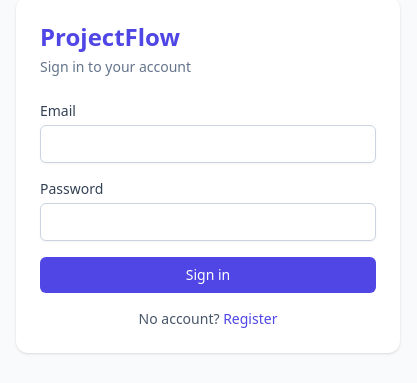
Scenario: LoginPage › rejects a malformed email
Type "not-an-email" into the field labelled "Email" at (208, 144), box [40,125,376,163]
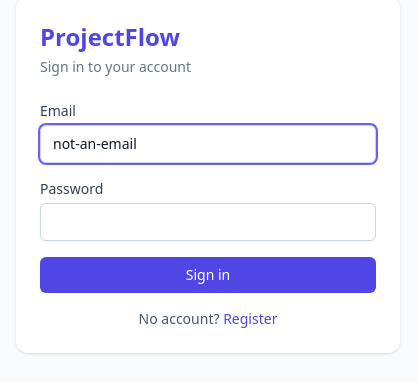
Type "secret123" into the password field labelled "Password" at (208, 222), box [40,203,376,241]
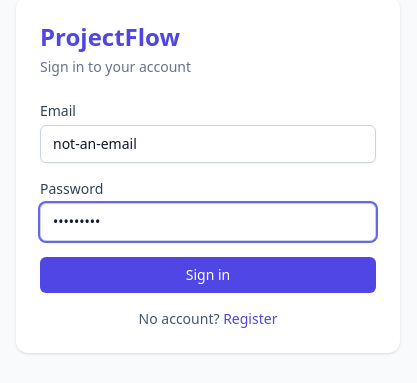
Click the button "Sign in" at (208, 275), box [40,257,376,293]
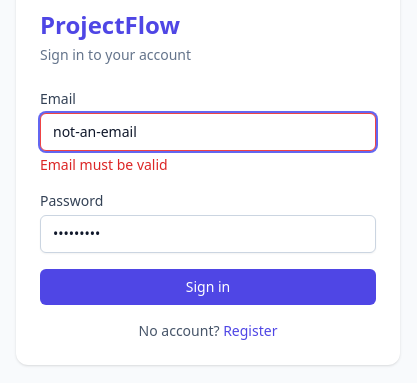
Expected: the message "Email must be valid" is shown, [40,155,168,174]
